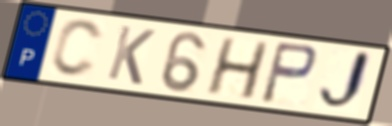6: (157, 28, 208, 95)
C: (48, 18, 105, 80)
H: (203, 36, 271, 102)
J: (316, 48, 375, 114)
K: (104, 23, 158, 87)
P: (257, 39, 319, 107)
